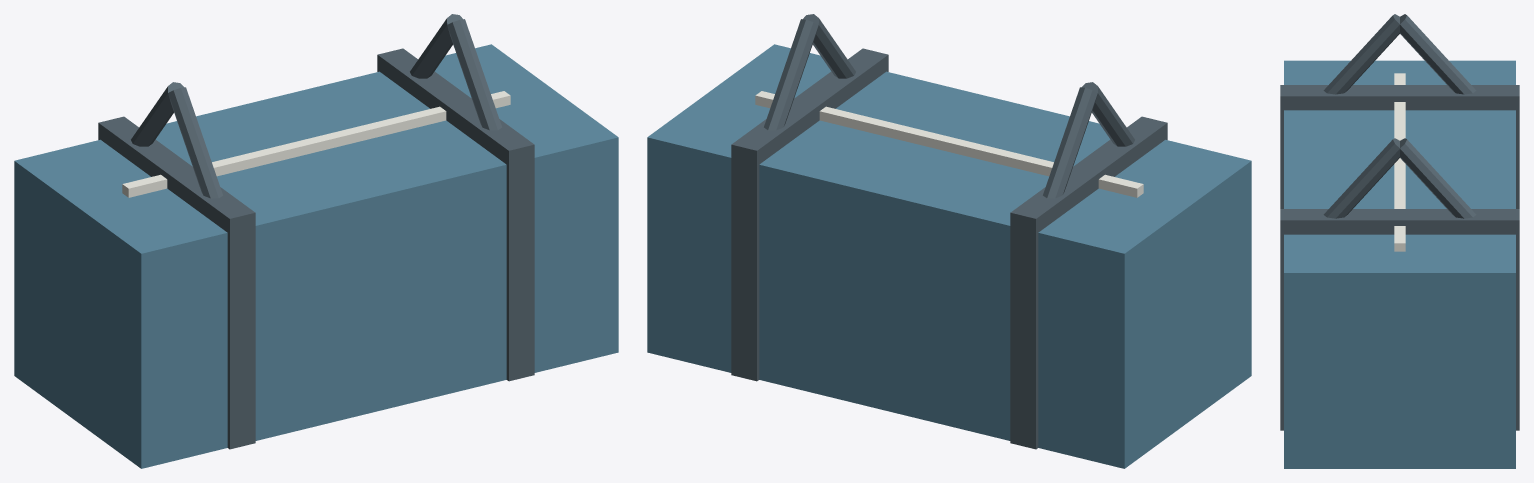
Rendered from football-soccer-club-grounds-equipment-carry-bag-787b6642.glb.
The picture shows the model from 3 angles, left to right: view 1: azimuth 30°, elevation 25°; view 2: azimuth 150°, elevation 25°; view 3: azimuth 270°, elevation 25°; orthographic projection. The views are drawn at different scales.
Parts seen in each view (by area): view 1: equipment-carry-bag; view 2: equipment-carry-bag; view 3: equipment-carry-bag.
Part boxes in pixels (box(x1,y1,x2,y2)): equipment-carry-bag: box(14, 14, 618, 468); equipment-carry-bag: box(647, 14, 1251, 468); equipment-carry-bag: box(1280, 14, 1519, 468).
Bounding box in the file's own units: 0.65 × 0.4077 × 0.31.
